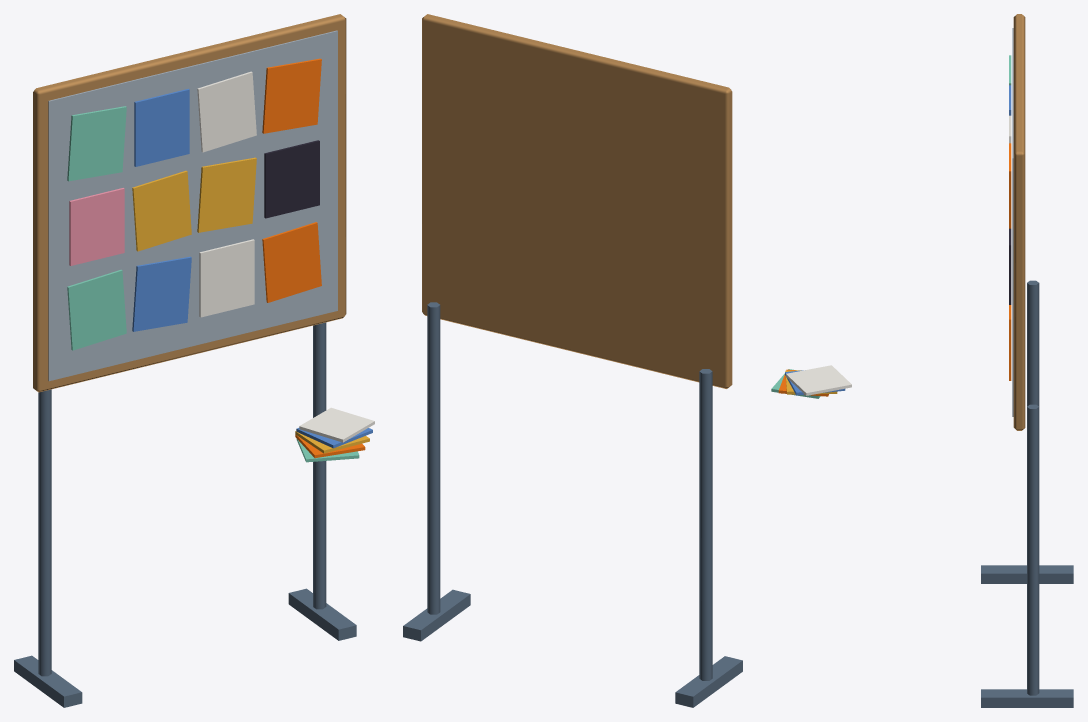
The model's file is station_intake_ausstattung_2_2.glb.
3 renders of one model, left to right at view 1: azimuth 30°, elevation 25°; view 2: azimuth 150°, elevation 25°; view 3: azimuth 270°, elevation 25°, orthographic. The views are drawn at different scales.
Parts seen in each view (by area): view 1: station_intake_ausstattung_2_2; view 2: station_intake_ausstattung_2_2; view 3: station_intake_ausstattung_2_2.
Part boxes in pixels (x1,y1,x2,y2): station_intake_ausstattung_2_2: [14, 14, 374, 707]; station_intake_ausstattung_2_2: [403, 14, 742, 707]; station_intake_ausstattung_2_2: [771, 14, 1073, 707].
Bounding box in the file's own units: 0.86 × 1.6 × 0.7833.
